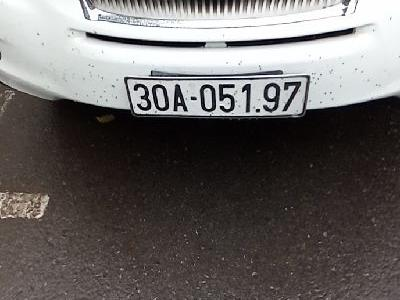car: (123, 73, 312, 120)
